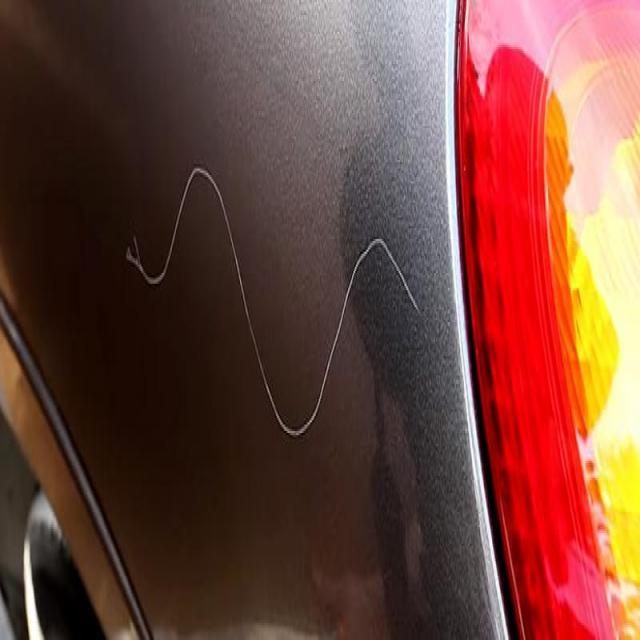scratch: (120, 136, 430, 456)
